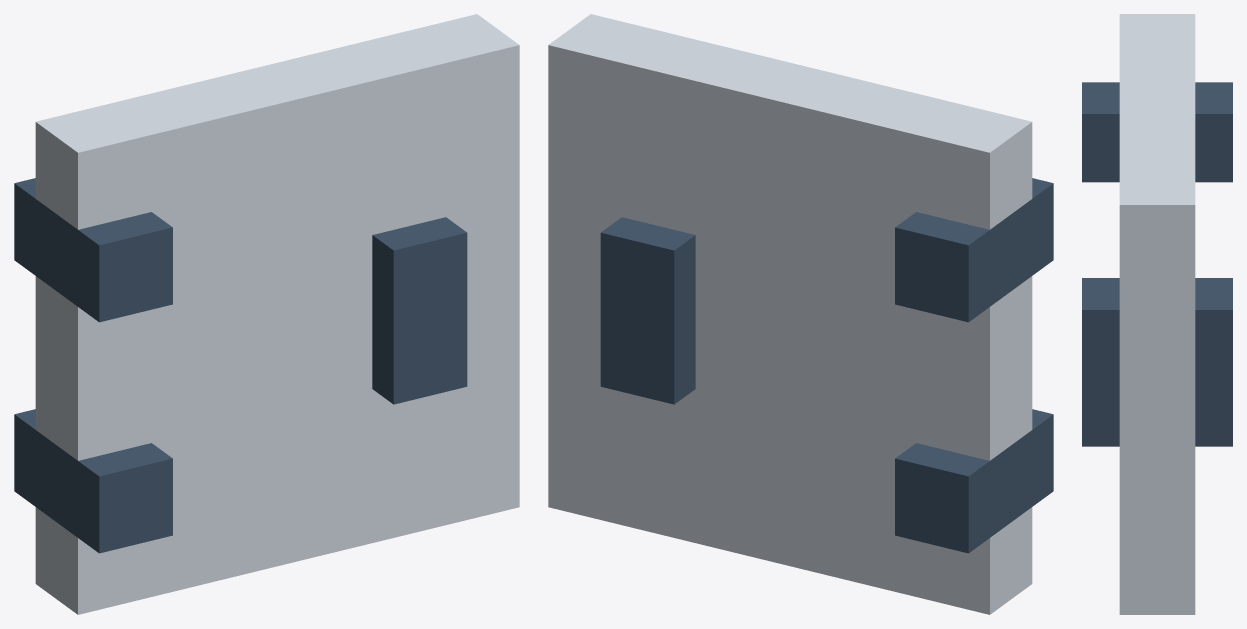
File: stone-gate.glb
The picture shows the model from 3 angles, left to right: view 1: azimuth 30°, elevation 25°; view 2: azimuth 150°, elevation 25°; view 3: azimuth 270°, elevation 25°; orthographic projection. The views are drawn at different scales.
Visible parts, largest first — view 1: generated(Clone); view 2: generated(Clone); view 3: generated(Clone).
Part boxes in pixels (x1,y1,x2,y2): generated(Clone): (14, 14, 519, 614); generated(Clone): (548, 14, 1053, 614); generated(Clone): (1082, 14, 1232, 614).
Size of the model in its own units: 6 by 6 by 2.
Materials: 1 (1 with a texture image).
